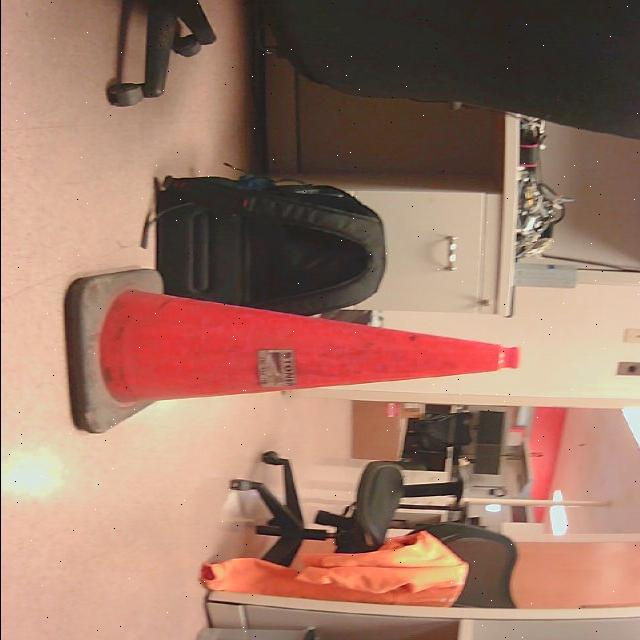traffic cone: (61, 270, 521, 435)
